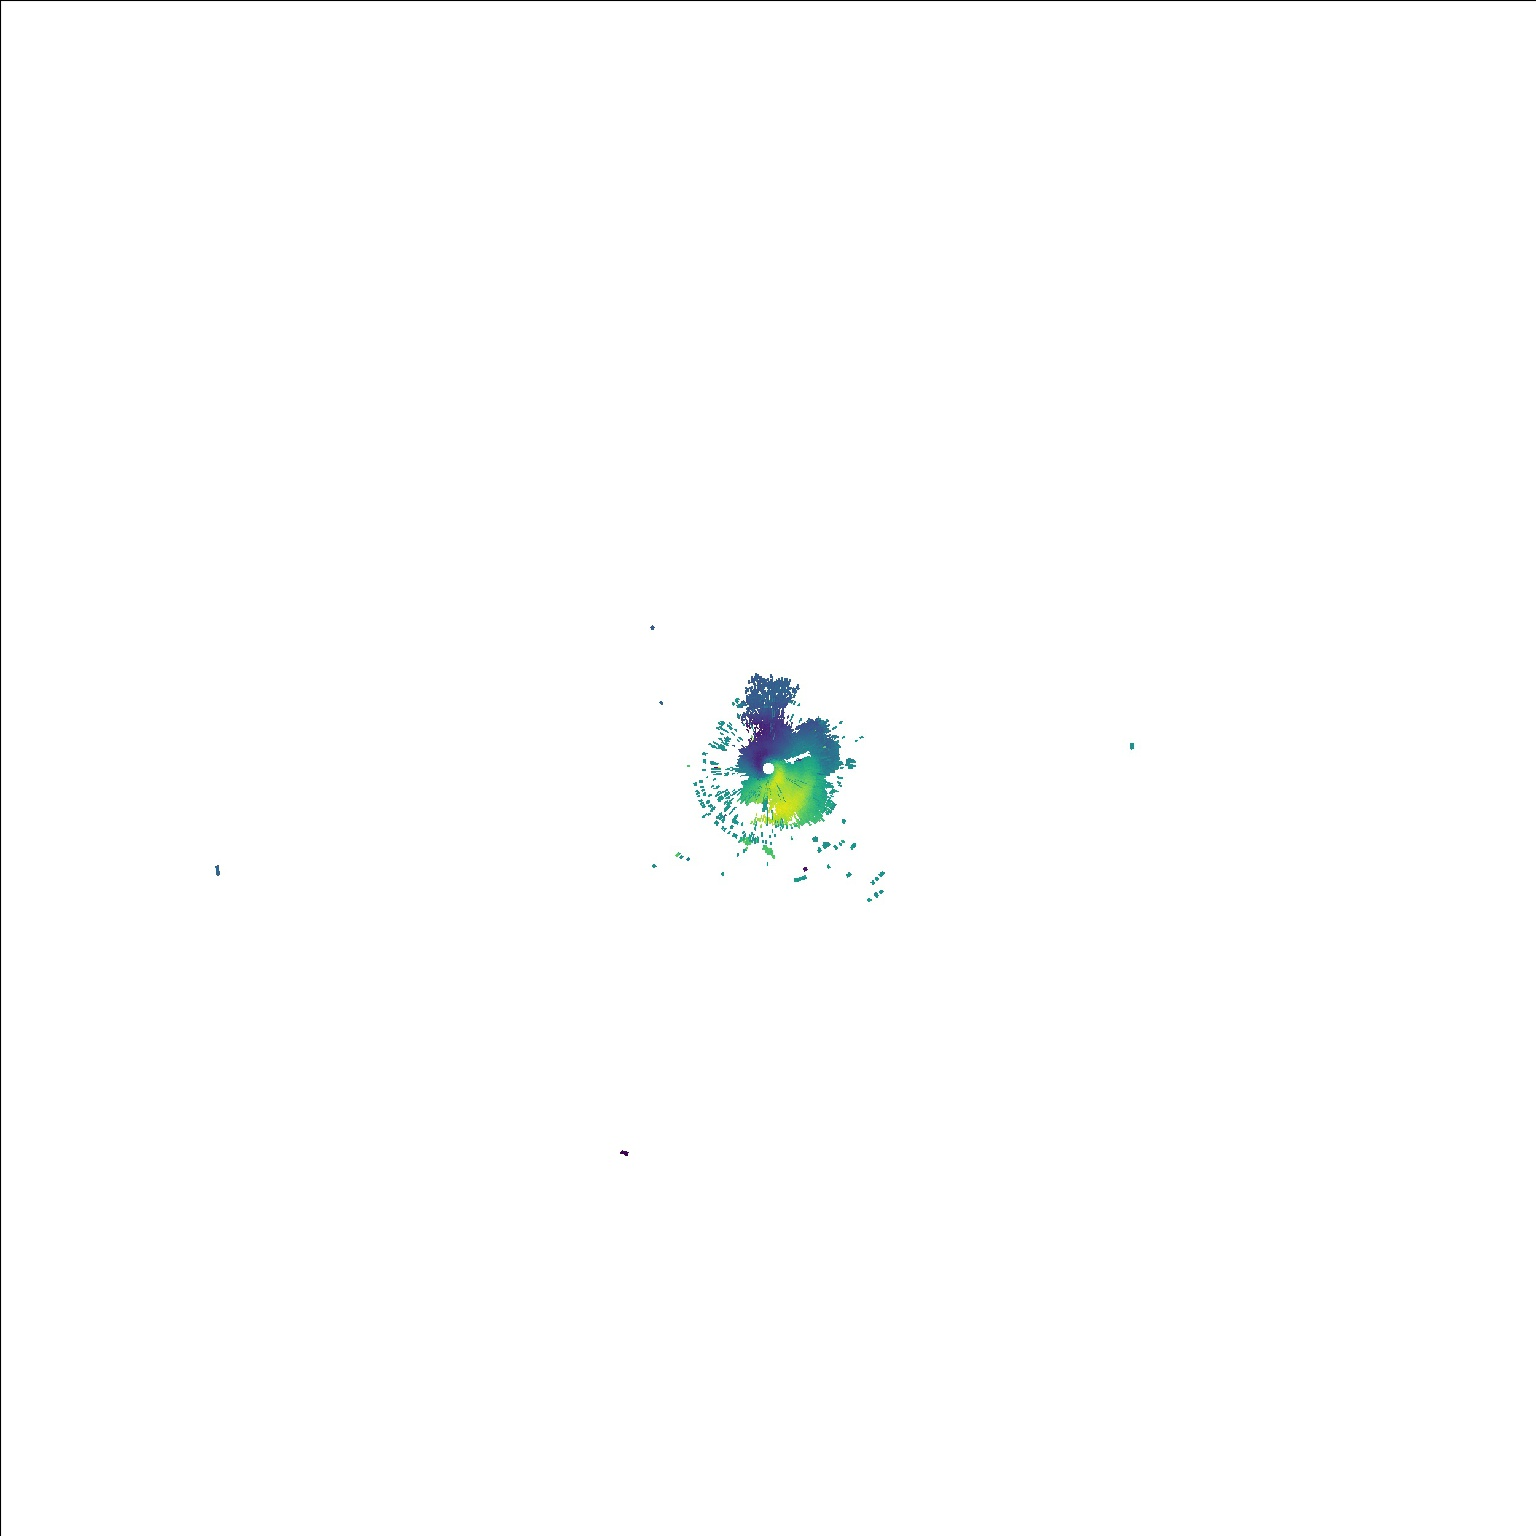fall: (671, 848, 693, 864)
